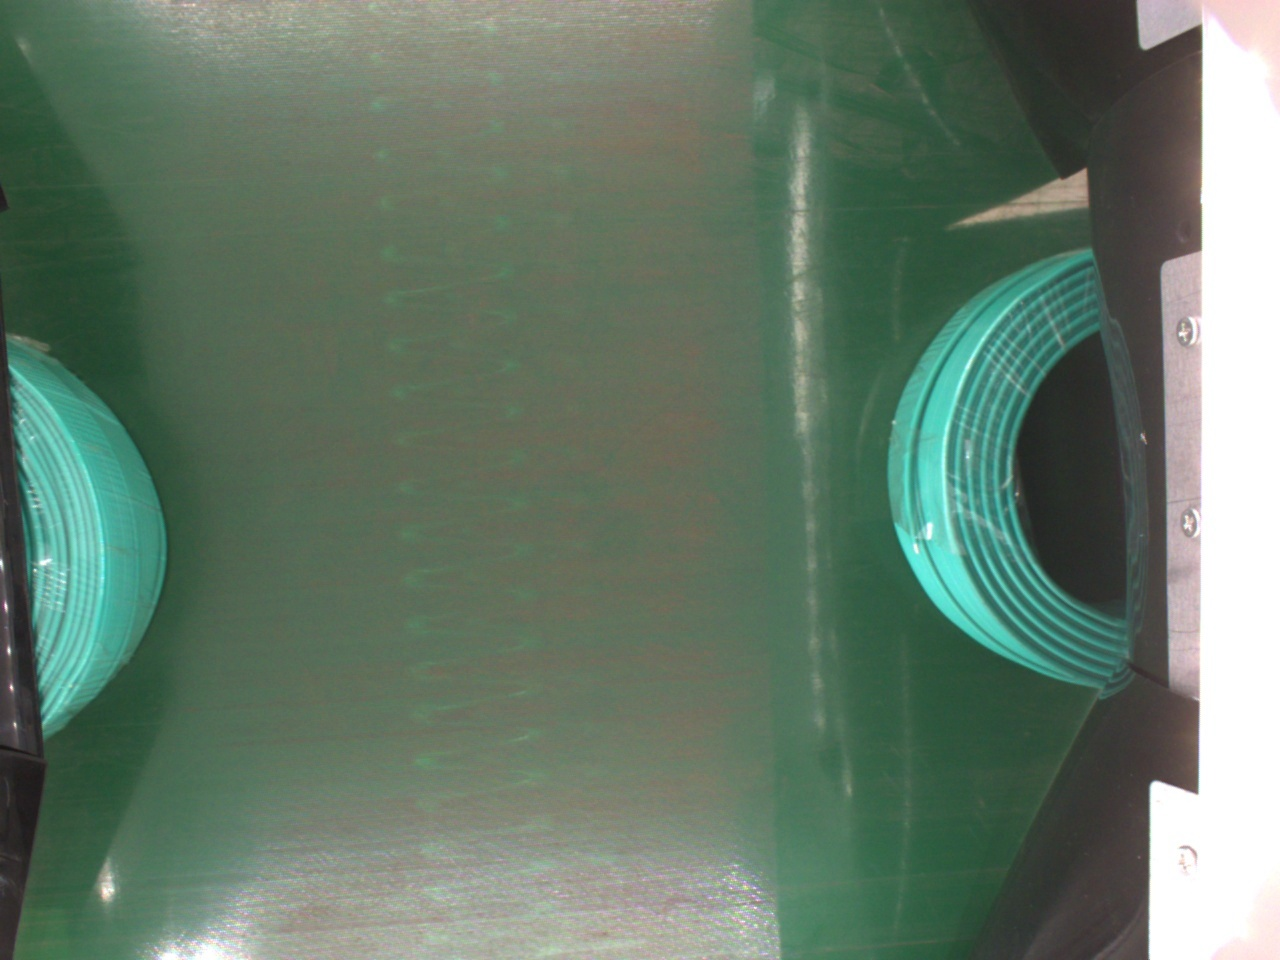green: (881, 248, 1133, 684), (3, 332, 164, 734)
